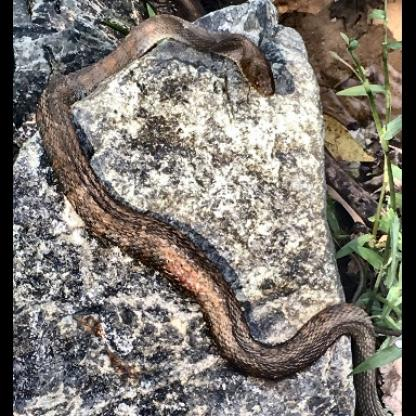Snake: (24, 10, 378, 411)
